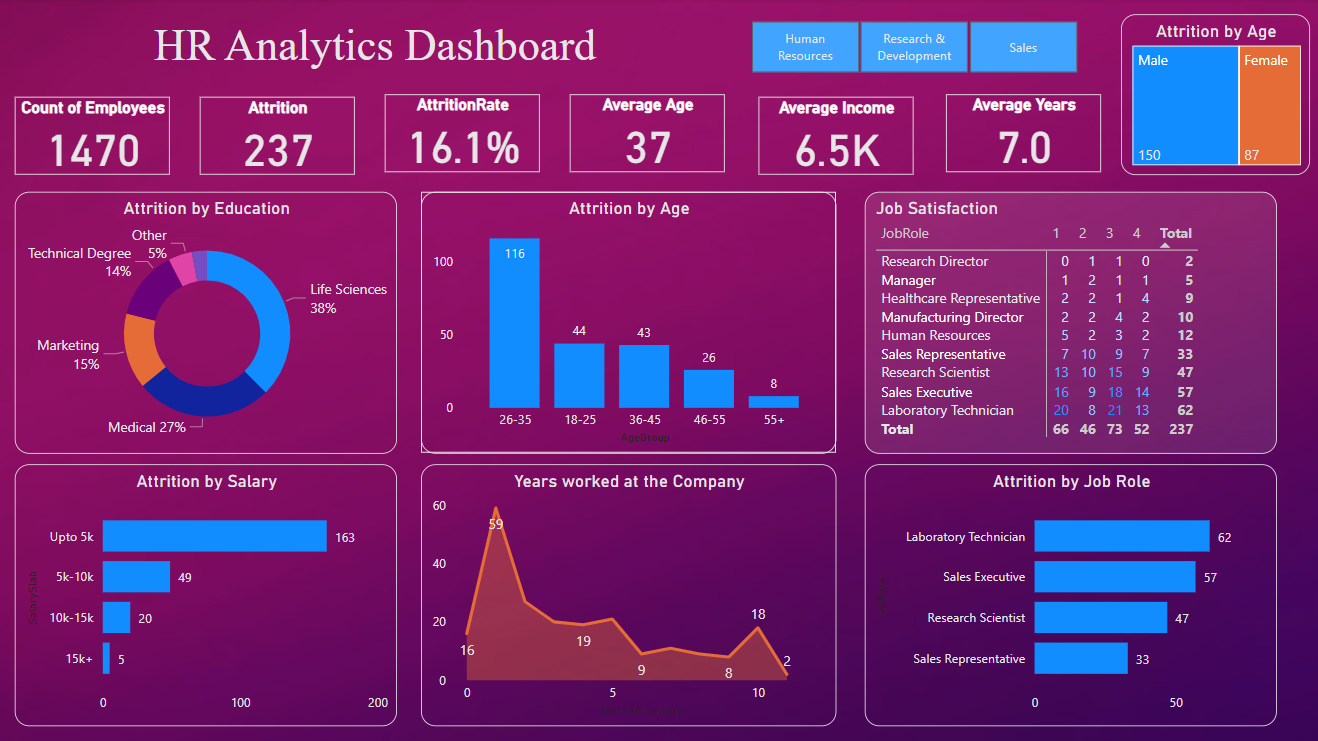

The page's visual inventory and layout, read from the dashboard file:
{"tool":"powerbi","page":{"name":"Page 1","canvas":[1280,720],"ordinal":0},"visuals":[{"type":"card","title":"Count of Employees","fields":{"Values":["CountNonNull(HR_Analytics.EmpID)"]},"box":[17.8,94.7,149.6,75.5],"z":0},{"type":"card","title":"Attrition","fields":{"Values":["Sum(HR_Analytics.AttritionCount)"]},"box":[196.2,94.7,149.6,75.5],"z":1000},{"type":"card","title":"AttritionRate","fields":{"Values":["HR_Analytics.AttritionRate"]},"box":[374.6,93.3,149.6,75.5],"z":2000},{"type":"card","title":"Average Age","fields":{"Values":["Avg(HR_Analytics.Age)"]},"box":[553,93.3,149.6,75.5],"z":3000},{"type":"card","title":"Average Income","fields":{"Values":["Avg(HR_Analytics.MonthlyIncome)"]},"box":[735.5,94.7,149.6,75.5],"z":4000},{"type":"card","title":"Average Years","fields":{"Values":["Avg(HR_Analytics.YearsAtCompany)"]},"box":[916.6,93.3,149.6,75.5],"z":5000},{"type":"donutChart","title":" Attrition by Education","fields":{"Category":["HR_Analytics.EducationField"],"Y":["Sum(HR_Analytics.AttritionCount)"]},"box":[17.8,186.6,369.1,252.5],"z":6000},{"type":"columnChart","title":" Attrition by Age","fields":{"Category":["HR_Analytics.AgeGroup"],"Y":["Sum(HR_Analytics.AttritionCount)"]},"box":[410.3,186.6,400.7,252.5],"z":7000},{"type":"pivotTable","title":"Job Satisfaction","fields":{"Rows":["HR_Analytics.JobRole"],"Columns":["HR_Analytics.JobSatisfaction"],"Values":["Sum(HR_Analytics.AttritionCount)"]},"box":[838.4,186.6,397.9,252.5],"z":8000},{"type":"barChart","title":" Attrition by Salary","fields":{"Category":["HR_Analytics.SalarySlab"],"Y":["Sum(HR_Analytics.AttritionCount)"]},"box":[17.8,450.1,369.1,252.5],"z":9000},{"type":"barChart","title":" Attrition by Job Role","fields":{"Category":["HR_Analytics.JobRole"],"Y":["Sum(HR_Analytics.AttritionCount)"]},"box":[838.4,450.1,397.9,252.5],"z":10000},{"type":"areaChart","title":"Years worked at the Company","fields":{"Category":["HR_Analytics.YearsAtCompany"],"Y":["Sum(HR_Analytics.AttritionCount)"]},"box":[410.3,450.1,400.7,252.5],"z":11000},{"type":"treemap","title":" Attrition by Age","fields":{"Group":["HR_Analytics.Gender"],"Values":["Sum(HR_Analytics.AttritionCount)"]},"box":[1085.4,15.1,182.5,155.1],"z":12000},{"type":"slicer","fields":{"Values":["HR_Analytics.Department"]},"box":[702.6,15.1,363.6,63.1],"z":13000},{"type":"textbox","box":[28.8,15.1,673.8,63.1],"z":14000}]}

Visuals, with their boxes in screenshot pixels (x1, y1, x2, y2), scaled from the page's 1280x720 canvas onto the 1318x741 screenshot:
"Count of Employees" card: 18 97 172 175
"Attrition" card: 202 97 356 175
"AttritionRate" card: 386 96 540 174
"Average Age" card: 569 96 723 174
"Average Income" card: 757 97 911 175
"Average Years" card: 944 96 1098 174
" Attrition by Education" donutChart: 18 192 398 452
" Attrition by Age" columnChart: 422 192 835 452
"Job Satisfaction" pivotTable: 863 192 1273 452
" Attrition by Salary" barChart: 18 463 398 723
" Attrition by Job Role" barChart: 863 463 1273 723
"Years worked at the Company" areaChart: 422 463 835 723
" Attrition by Age" treemap: 1118 16 1306 175
slicer - HR_Analytics.Department: 723 16 1098 80
textbox: 30 16 723 80
